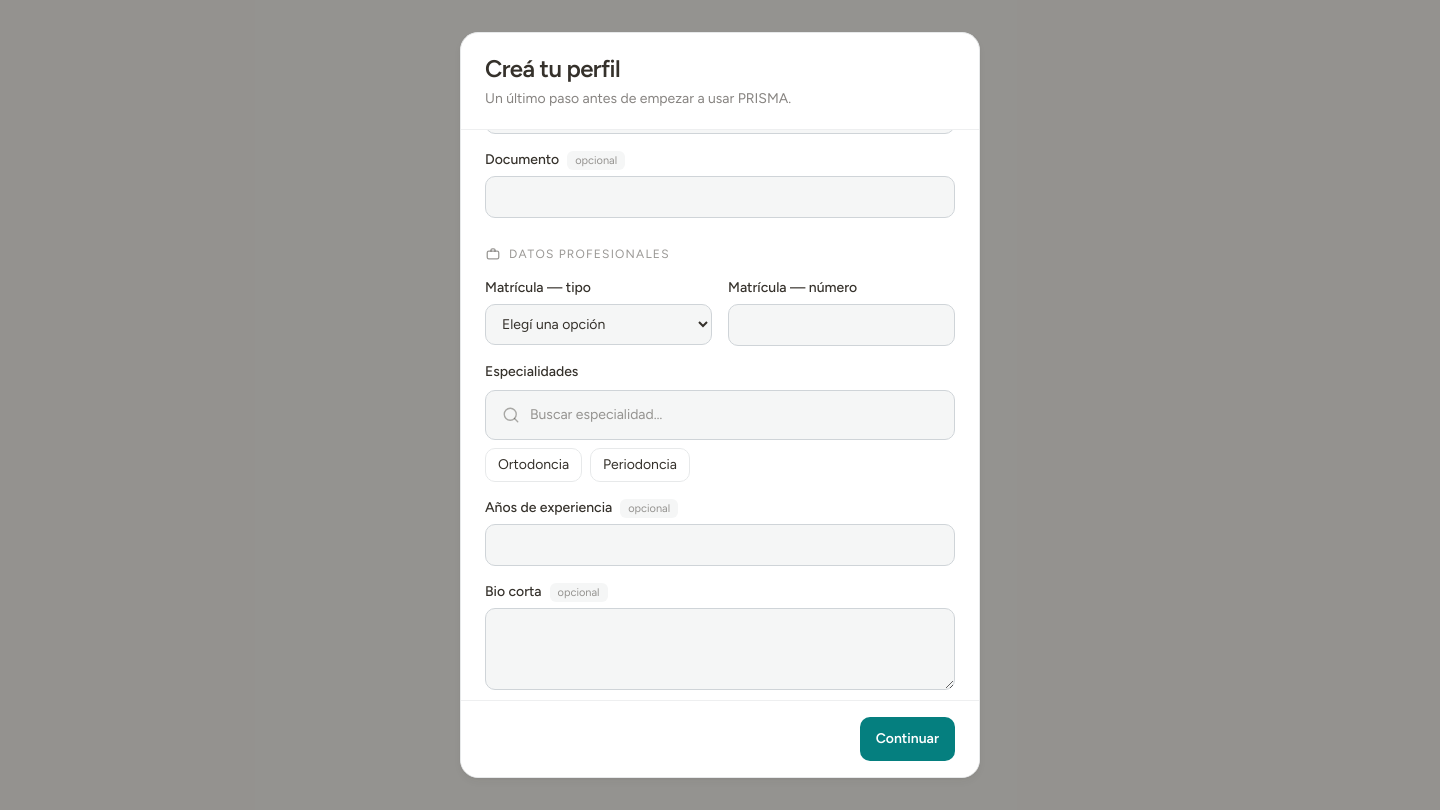
Test: PerfilOverlay › la búsqueda filtra las que todavía no se eligieron
(page scrolled)
Type "perio" into the field labelled "Buscar especialidad".
click(720, 415); type("perio")  # box [494,399,946,431]
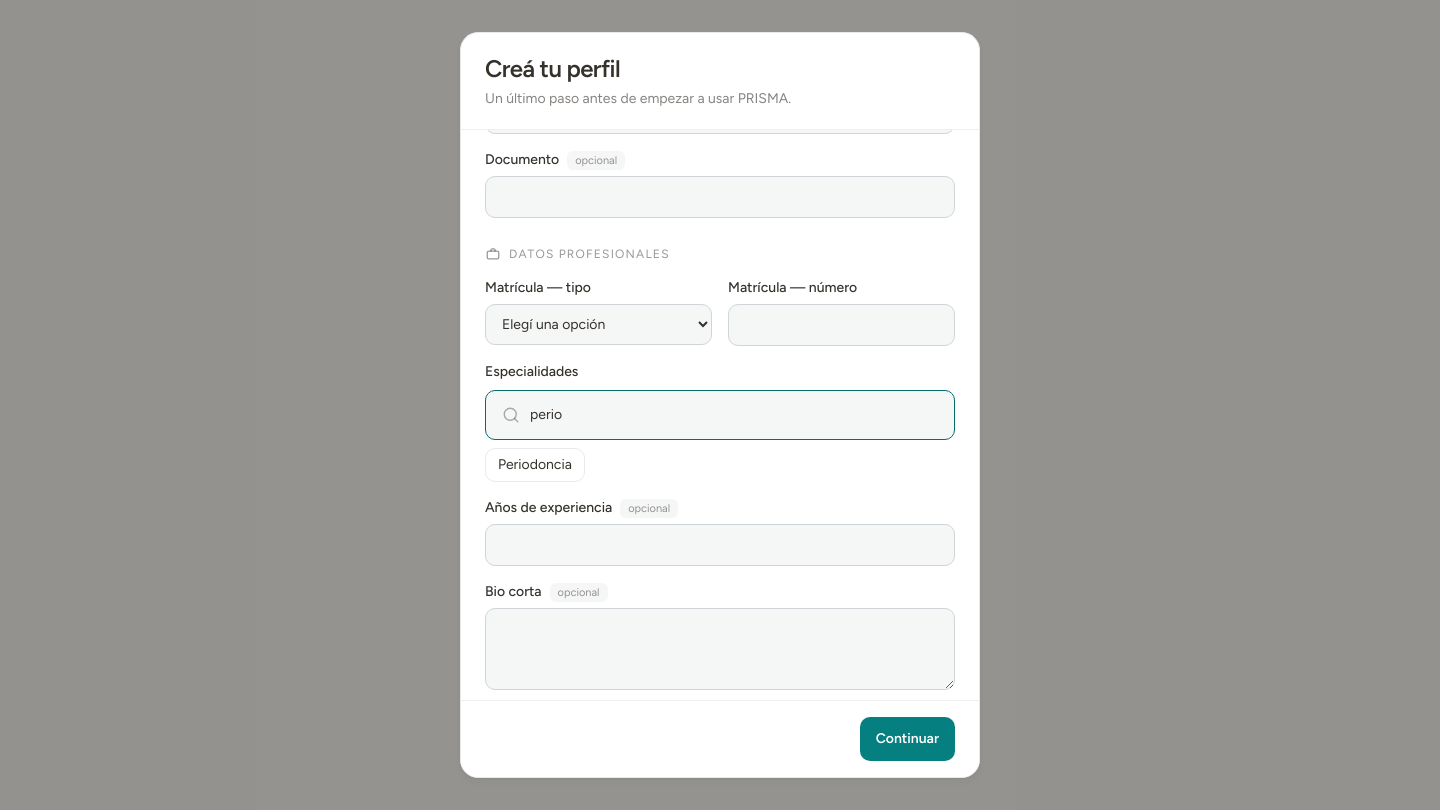
Check: the button "Periodoncia" is shown, box [485,448,585,482]
Check: the button "Ortodoncia" is gone
